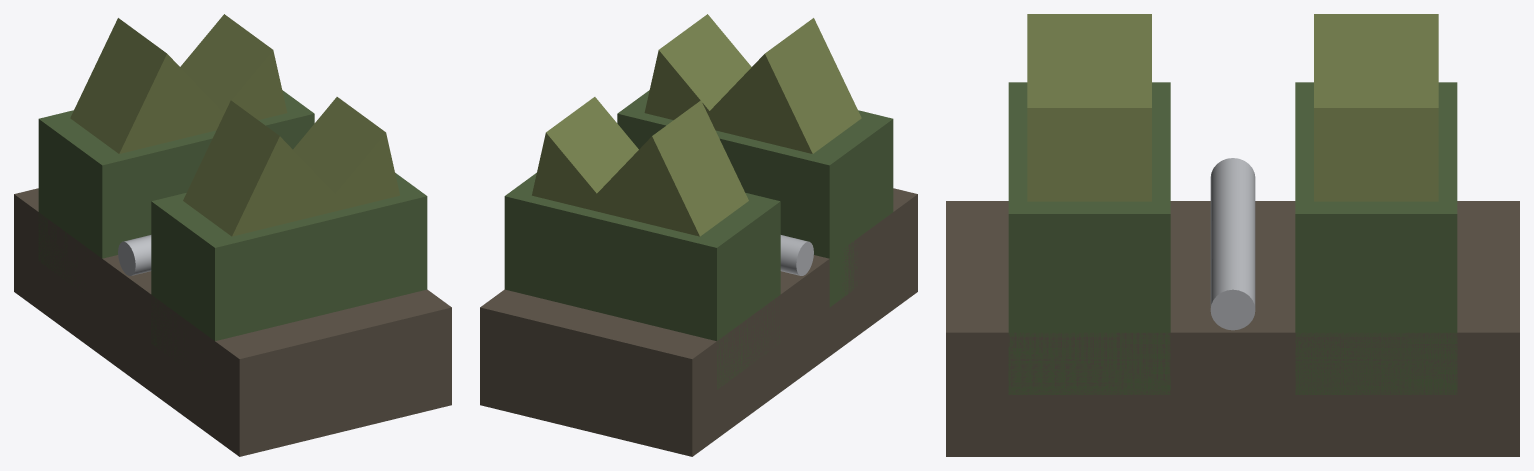
Rendered from farm_crop_cell_lvl3.glb.
The picture shows the model from 3 angles, left to right: view 1: azimuth 30°, elevation 25°; view 2: azimuth 150°, elevation 25°; view 3: azimuth 270°, elevation 25°; orthographic projection. The views are drawn at different scales.
Parts seen in each view (by area): view 1: farm_crop_cell; view 2: farm_crop_cell; view 3: farm_crop_cell.
Boxes of the visible parts, <box> form: farm_crop_cell: <box>14,14,451,456</box>; farm_crop_cell: <box>480,14,917,456</box>; farm_crop_cell: <box>946,14,1519,456</box>.
Size of the model in its own units: 0.0442 by 0.0557 by 0.0814.
